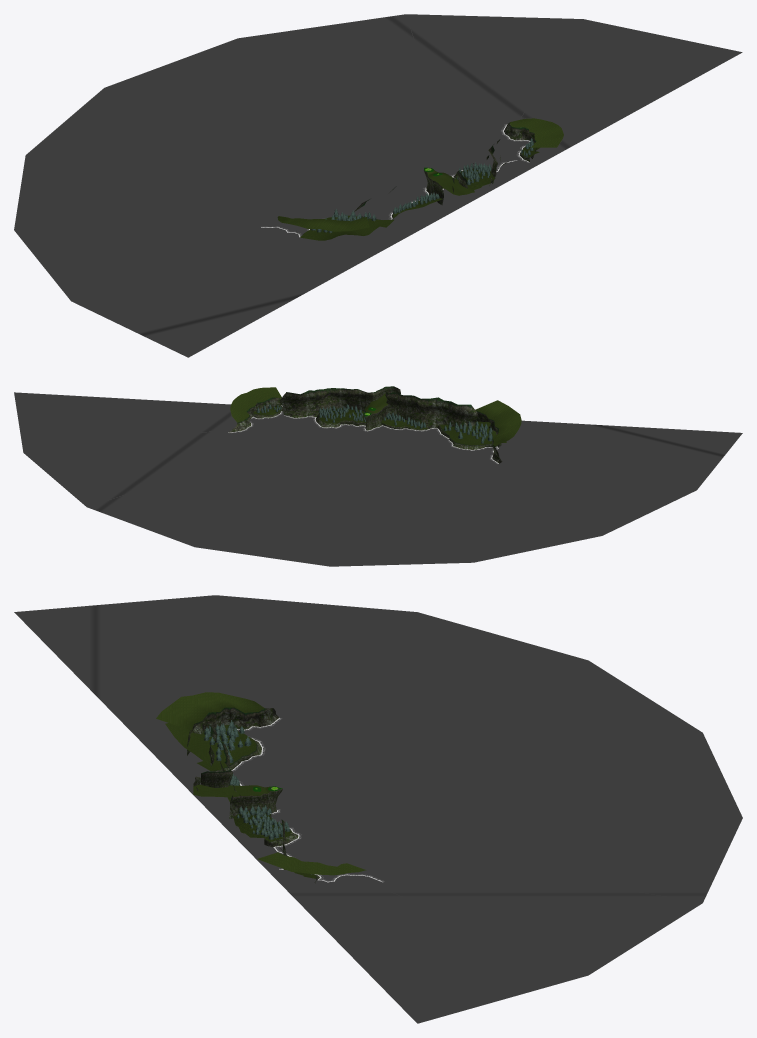
The model's file is glf_course_fc14__glf_course_fc14.glb.
3 renders of one model, top to bottom at view 1: azimuth 30°, elevation 25°; view 2: azimuth 150°, elevation 25°; view 3: azimuth 270°, elevation 25°, orthographic. The views are drawn at different scales.
Visible parts, largest first — view 1: polygon208, polygon180, polygon28, polygon181; view 2: polygon208, polygon181, polygon180, polygon28, polygon179, polygon16; view 3: polygon208, polygon180, polygon181, polygon28, polygon179.
Part boxes in pixels (bbox=[...]): polygon208: bbox=[14, 14, 742, 357]; polygon180: bbox=[277, 118, 563, 240]; polygon28: bbox=[311, 138, 533, 233]; polygon181: bbox=[297, 123, 536, 235]; polygon208: bbox=[14, 392, 742, 566]; polygon181: bbox=[228, 387, 502, 463]; polygon180: bbox=[230, 387, 521, 446]; polygon28: bbox=[256, 404, 492, 443]; polygon179: bbox=[237, 386, 501, 451]; polygon16: bbox=[228, 411, 498, 463]; polygon208: bbox=[14, 595, 742, 1023]; polygon180: bbox=[156, 692, 366, 878]; polygon181: bbox=[187, 708, 336, 883]; polygon28: bbox=[204, 720, 311, 874]; polygon179: bbox=[193, 707, 317, 878].
Size of the model in its own units: 72145 by 3231 by 51851.
16 materials, 15 textured.
